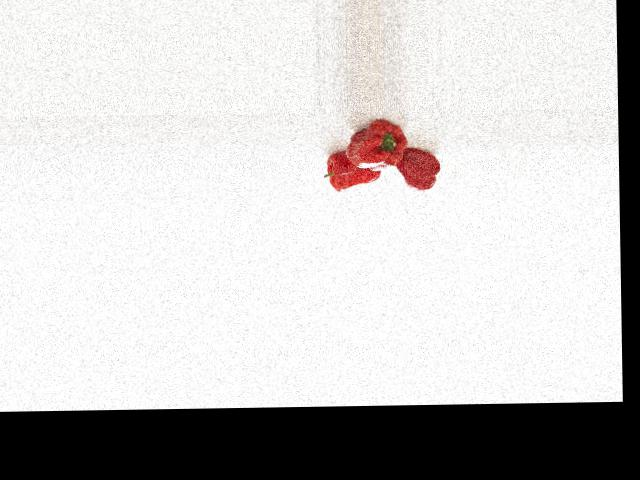bell_pepper: (398, 145, 443, 191)
